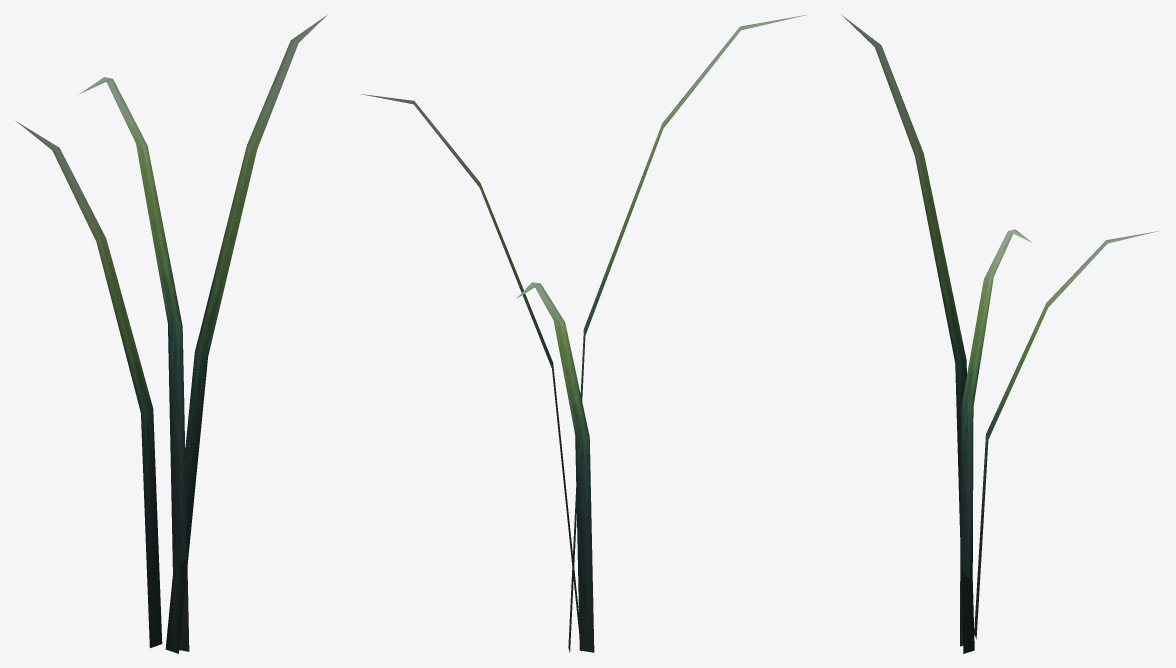
The model's file is swmp_shor_cattail_blue_med_l0.fbx.
3 renders of one model, left to right at view 1: azimuth 30°, elevation 25°; view 2: azimuth 150°, elevation 25°; view 3: azimuth 270°, elevation 25°, orthographic. The views are drawn at different scales.
Parts seen in each view (by area): view 1: mesh_node; view 2: mesh_node; view 3: mesh_node.
Part boxes in pixels (<box>): mesh_node: <box>15,14,327,653</box>; mesh_node: <box>360,14,807,652</box>; mesh_node: <box>842,15,1158,653</box>.
Size of the model in its own units: 1.44 by 2.49 by 1.28.
1 material, 1 textured.
